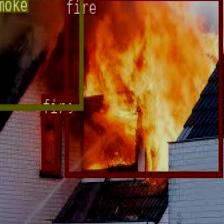fire: (64, 0, 221, 176), (40, 114, 58, 169)
smoke: (0, 0, 83, 108)
